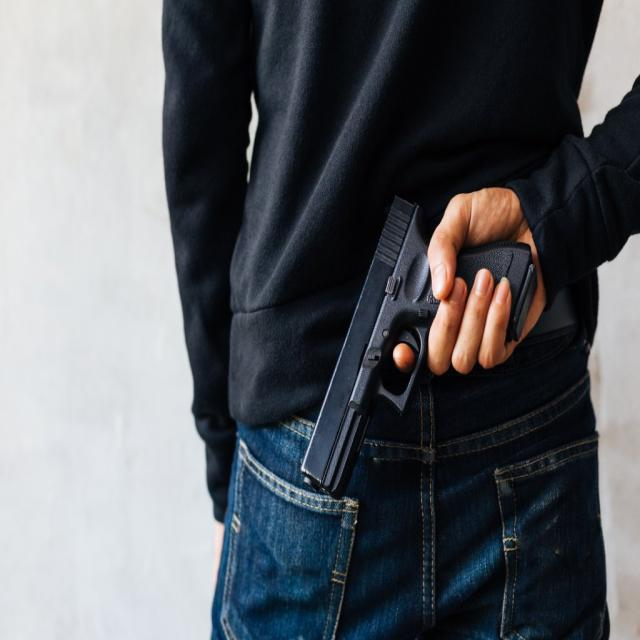HandGun: (300, 197, 536, 501)
